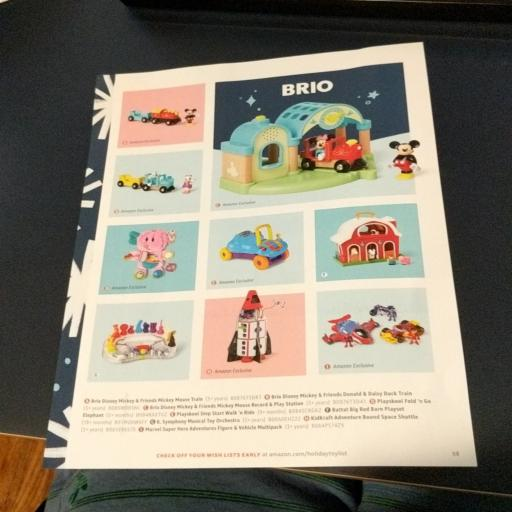paper: (30, 33, 498, 485)
